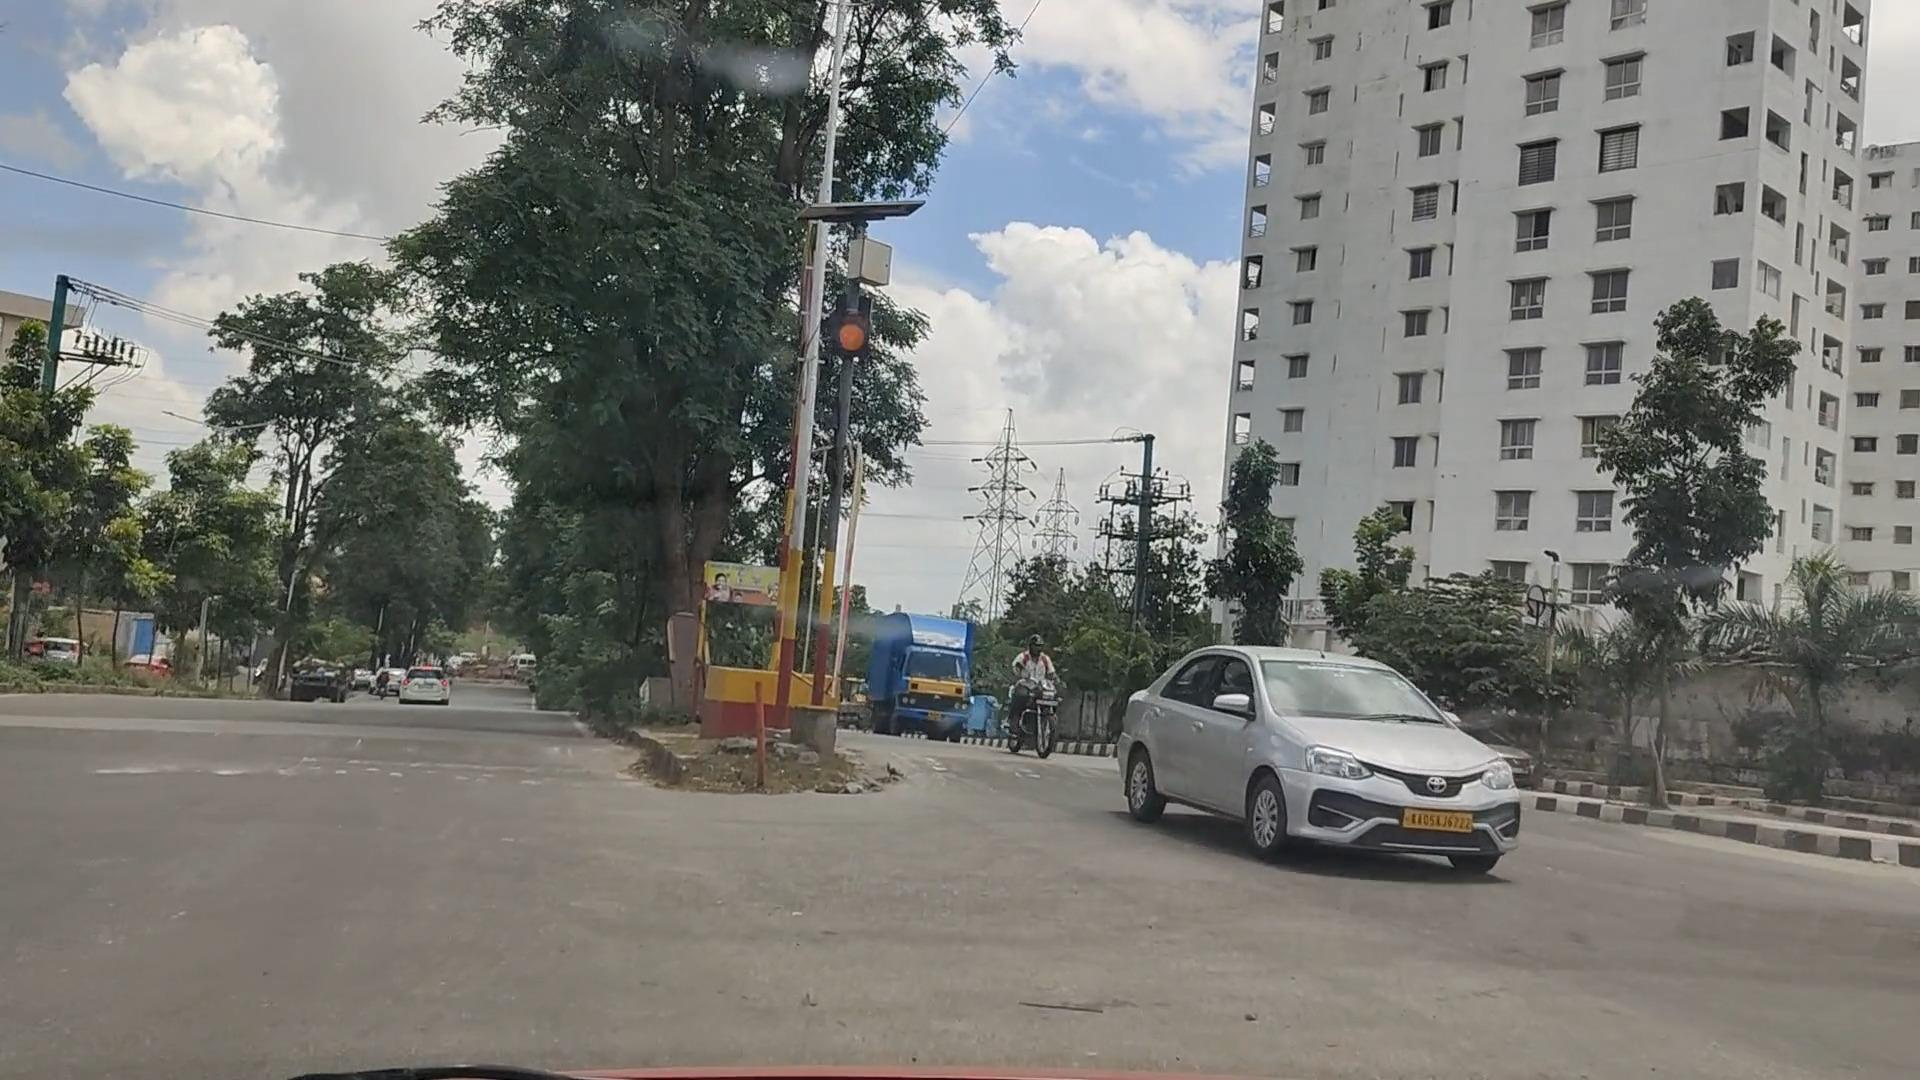LMV: (1125, 636, 1532, 886)
